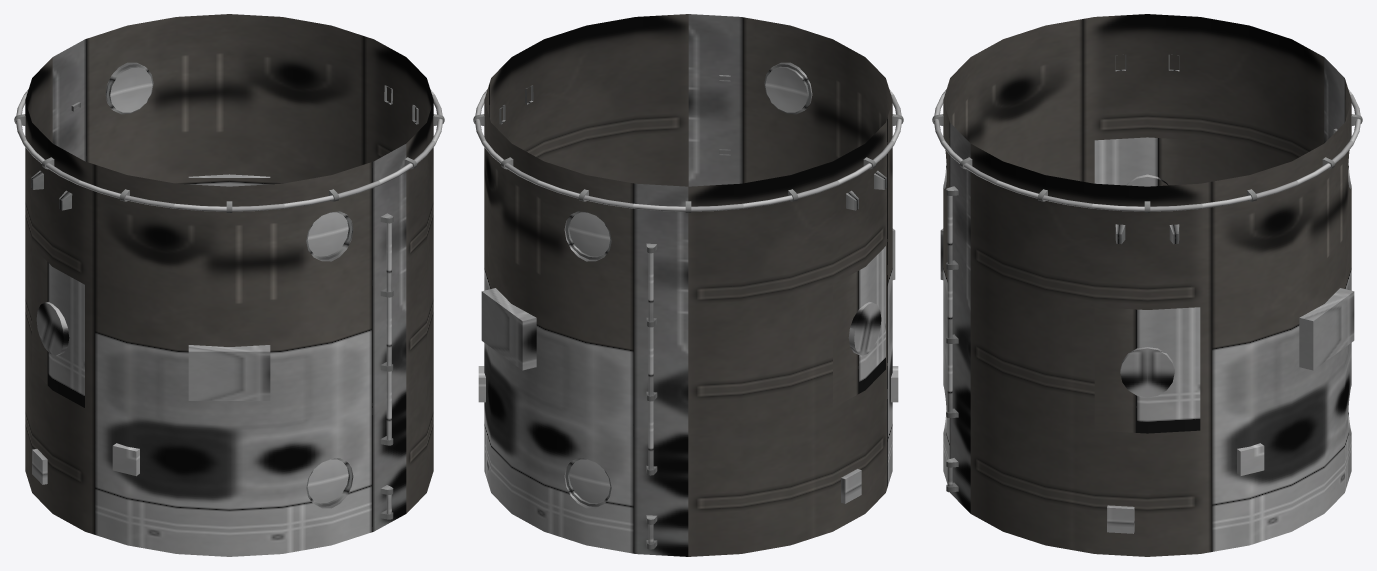
File: priroda lab.obj
3 views of the same model, side by side, from view 1: azimuth 30°, elevation 25°; view 2: azimuth 150°, elevation 25°; view 3: azimuth 270°, elevation 25° (orthographic).
Parts seen in each view (by area): view 1: s1, w1; view 2: s1, w1; view 3: s1.
Boxes of the visible parts, x1=… form: s1: x1=14, y1=14, x2=444, y2=556; w1: x1=110, y1=67, x2=348, y2=503; s1: x1=473, y1=14, x2=903, y2=556; w1: x1=569, y1=67, x2=807, y2=503; s1: x1=932, y1=14, x2=1362, y2=556.
Size of the model in its own units: 1.98 by 1.88 by 1.98.
